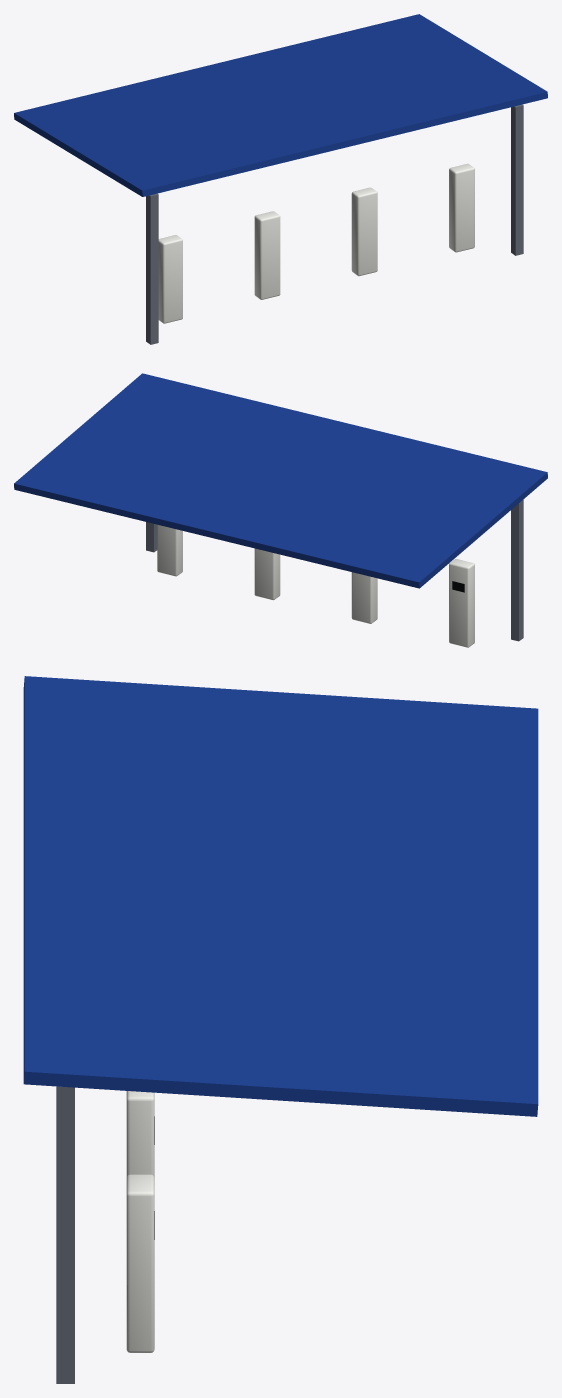
Rendered from energy.plant.ev_hub.glb.
The picture shows the model from 3 angles, top to bottom: view 1: azimuth 30°, elevation 25°; view 2: azimuth 150°, elevation 25°; view 3: azimuth 270°, elevation 25°; orthographic projection. The views are drawn at different scales.
Parts seen in each view (by area): view 1: main__plastic_blue, main__paint_white, main__steel_painted; view 2: main__plastic_blue, main__paint_white, main__steel_painted; view 3: main__plastic_blue, main__paint_white, main__steel_painted.
Boxes of the visible parts, <box> form: main__plastic_blue: <box>14,14,547,196</box>; main__paint_white: <box>158,163,474,323</box>; main__steel_painted: <box>146,104,523,344</box>; main__plastic_blue: <box>14,373,547,588</box>; main__paint_white: <box>157,524,474,647</box>; main__steel_painted: <box>146,499,523,641</box>; main__plastic_blue: <box>23,676,538,1116</box>; main__paint_white: <box>126,1091,154,1352</box>; main__steel_painted: <box>56,1086,74,1383</box>.
Bounding box in the file's own units: 10 × 3.87 × 5.5.
